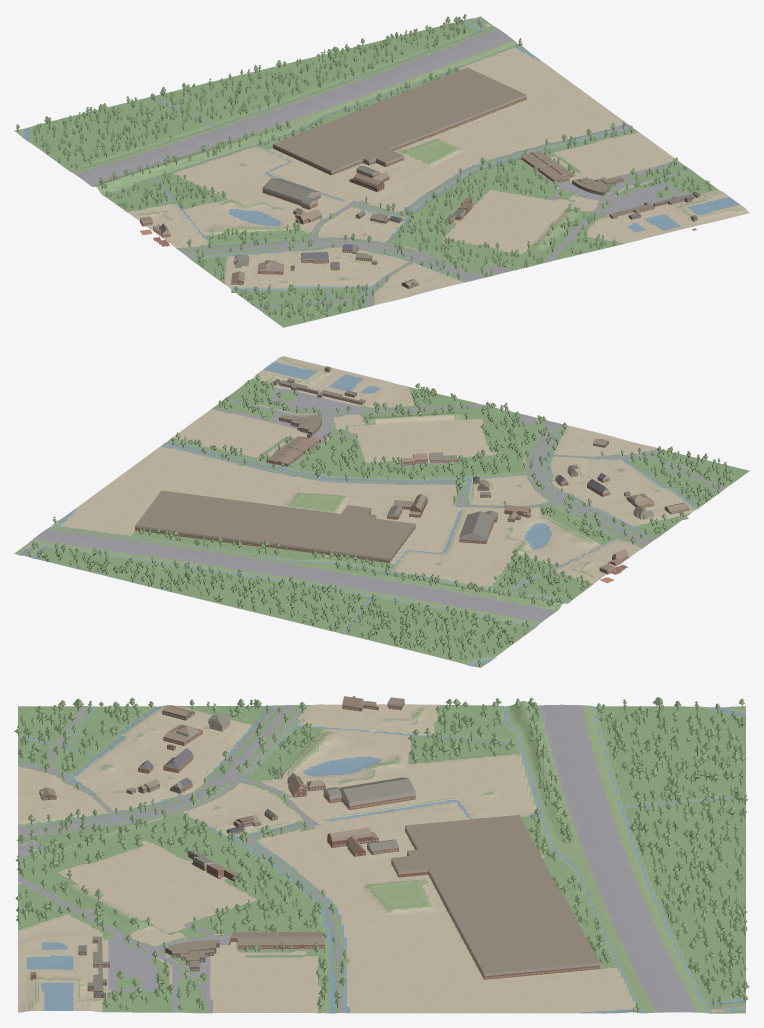
Rendered from bosven-veghel_x330_y809.glb.
The picture shows the model from 3 angles, top to bottom: view 1: azimuth 30°, elevation 25°; view 2: azimuth 150°, elevation 25°; view 3: azimuth 270°, elevation 25°; orthographic projection. The views are drawn at different scales.
Visible parts, largest first — view 1: class:sand, class:green, class:tree, class:roof, class:road, class:grass, class:water, class:wall, class:trunk, class:trim; view 2: class:sand, class:green, class:tree, class:roof, class:road, class:grass, class:water, class:wall, class:trunk, class:trim; view 3: class:sand, class:green, class:tree, class:roof, class:road, class:grass, class:water, class:wall, class:trunk, class:trim.
Part boxes in pixels (<box>): class:sand: <box>97,23,749,304</box>; class:green: <box>14,16,718,327</box>; class:tree: <box>16,14,712,319</box>; class:roof: <box>140,67,699,286</box>; class:road: <box>75,18,692,309</box>; class:grass: <box>20,17,745,317</box>; class:water: <box>23,18,739,316</box>; class:wall: <box>140,95,700,296</box>; class:trunk: <box>17,19,710,321</box>; class:trim: <box>140,98,699,287</box>; class:sand: <box>25,356,696,619</box>; class:green: <box>14,378,749,667</box>; class:tree: <box>28,374,733,664</box>; class:roof: <box>135,366,688,570</box>; class:road: <box>23,387,725,622</box>; class:grass: <box>16,358,726,666</box>; class:water: <box>20,362,721,665</box>; class:wall: <box>135,367,689,583</box>; class:trunk: <box>29,380,731,666</box>; class:trim: <box>136,370,687,572</box>; class:sand: <box>18,704,722,1013</box>; class:green: <box>18,701,745,1013</box>; class:tree: <box>14,697,749,1010</box>; class:roof: <box>30,696,599,994</box>; class:road: <box>18,704,745,1012</box>; class:grass: <box>18,701,745,1013</box>; class:water: <box>18,705,745,1013</box>; class:wall: <box>30,696,599,997</box>; class:trunk: <box>18,704,745,1012</box>; class:trim: <box>32,703,597,996</box>.
Size of the model in its own units: 505 by 19.5 by 506.
